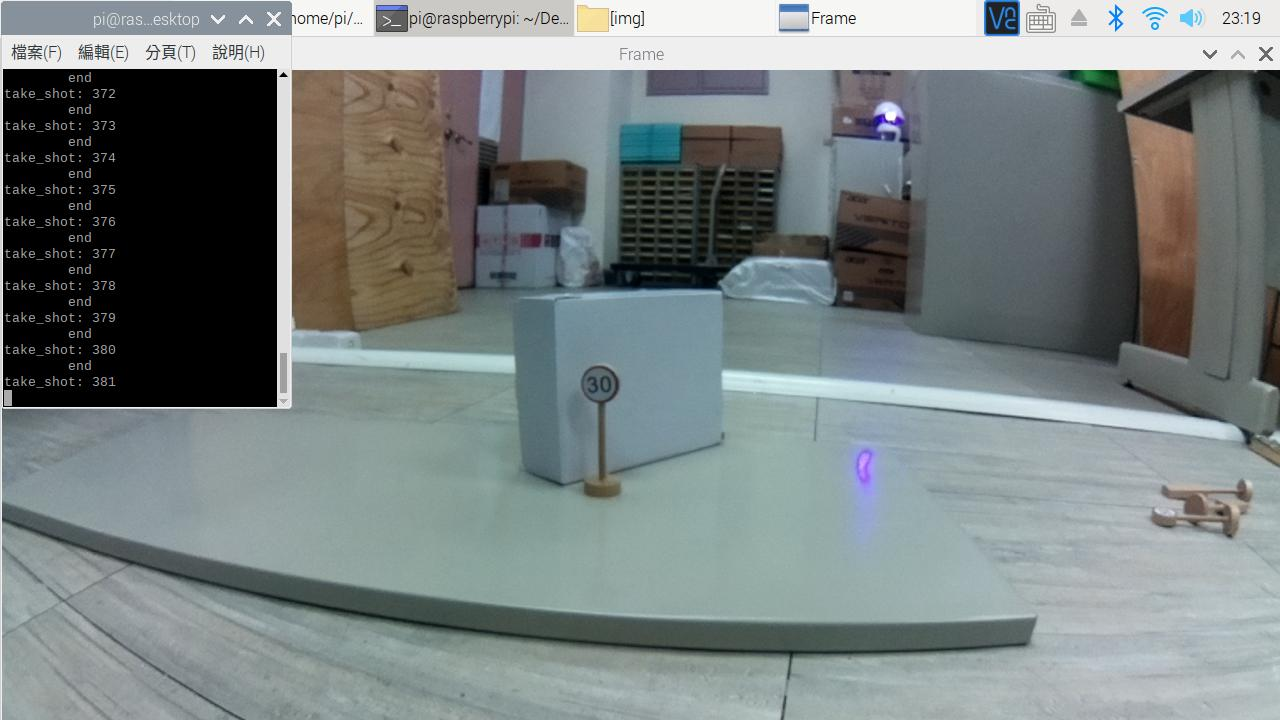Speed30: (562, 362, 648, 419)
